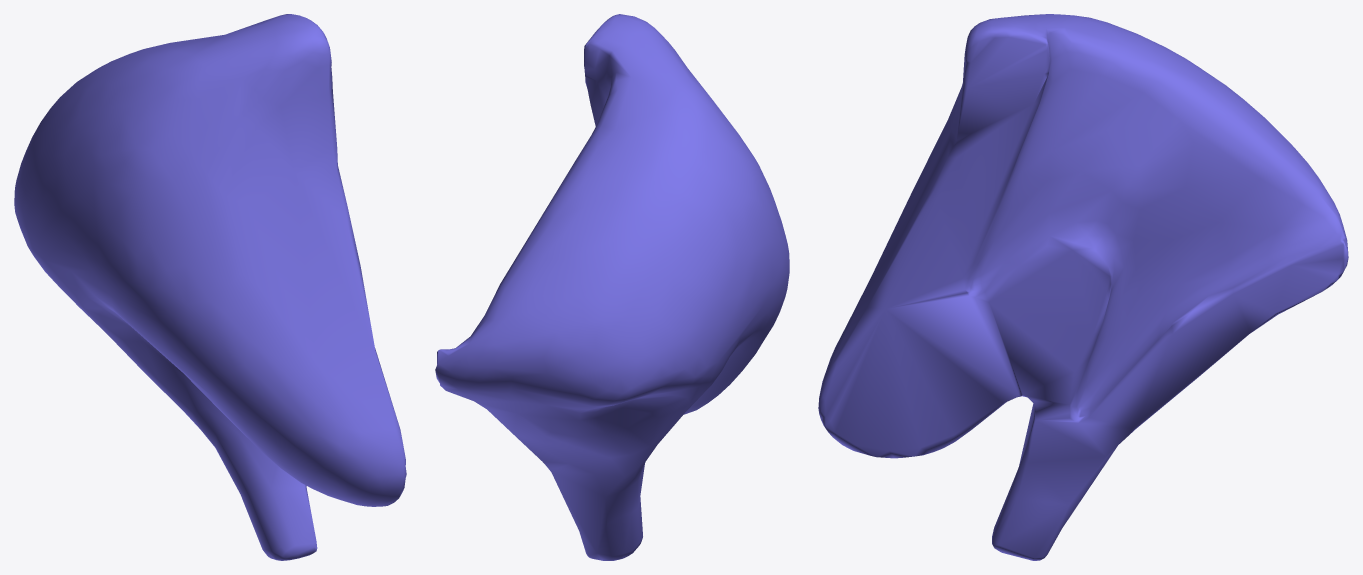
The model's file is Cavernous_sinus_left.glb.
The picture shows the model from 3 angles, left to right: view 1: azimuth 30°, elevation 25°; view 2: azimuth 150°, elevation 25°; view 3: azimuth 270°, elevation 25°; orthographic projection. The views are drawn at different scales.
Parts seen in each view (by area): view 1: Cavernous_sinus.l_grp1.110; view 2: Cavernous_sinus.l_grp1.110; view 3: Cavernous_sinus.l_grp1.110.
Boxes of the visible parts, x1=… form: Cavernous_sinus.l_grp1.110: x1=14, y1=14, x2=406, y2=560; Cavernous_sinus.l_grp1.110: x1=435, y1=14, x2=789, y2=560; Cavernous_sinus.l_grp1.110: x1=818, y1=14, x2=1348, y2=560.
Size of the model in its own units: 0.00739 by 0.0193 by 0.0174.
